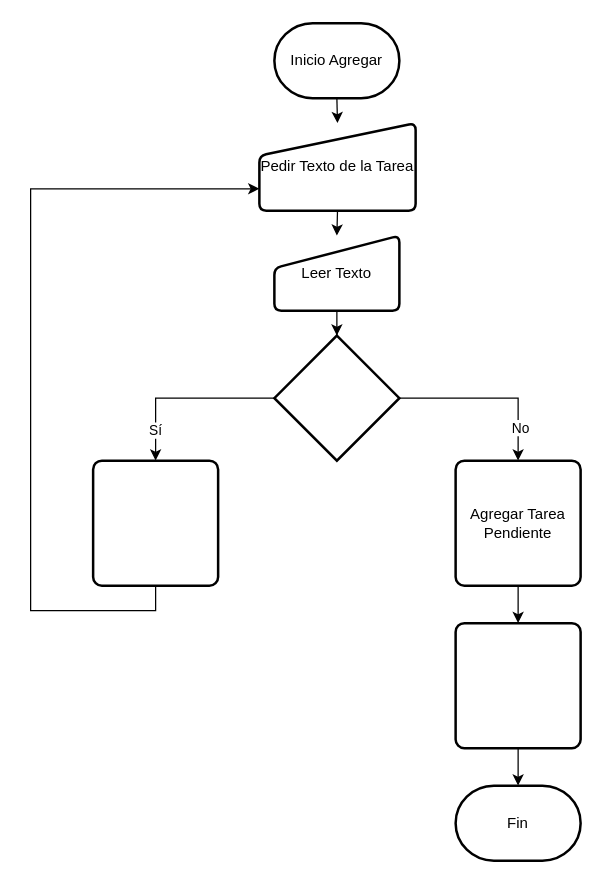
Some shapes in this 604 by 883 pixel diagram are drawn without their labels. The shapes that lost their labels are listed below. From the top down, each one's centre as x and y in pixels, then its label:
point (336, 397): ¿Texto vacío?
point (155, 522): Mostrar Error
point (517, 685): Mostrar "Tarea Agregada Correctamente"
